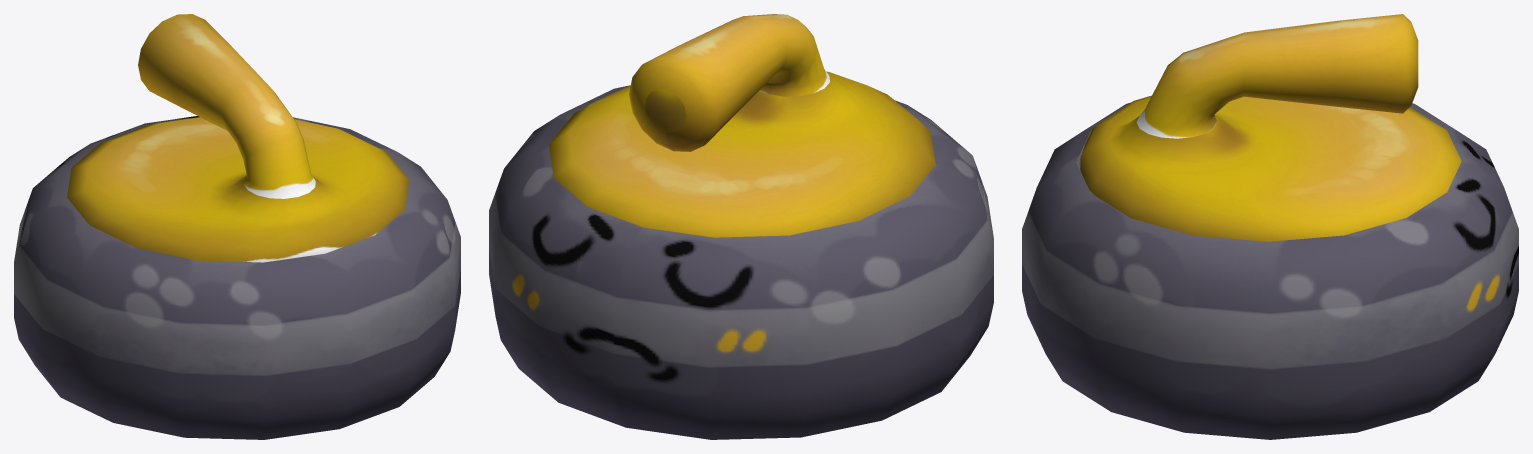
File: CurlingRockEdited.fbx
3 renders of one model, left to right at view 1: azimuth 30°, elevation 25°; view 2: azimuth 150°, elevation 25°; view 3: azimuth 270°, elevation 25°, orthographic. The views are drawn at different scales.
Parts seen in each view (by area): view 1: Cylinder; view 2: Cylinder; view 3: Cylinder.
Boxes of the visible parts, x1,y1,x2,y2 form: Cylinder: [14, 14, 460, 439]; Cylinder: [489, 14, 993, 439]; Cylinder: [1022, 14, 1518, 439].
Bounding box in the file's own units: 121 × 93.21 × 121.
Materials: 1 (1 with a texture image).
